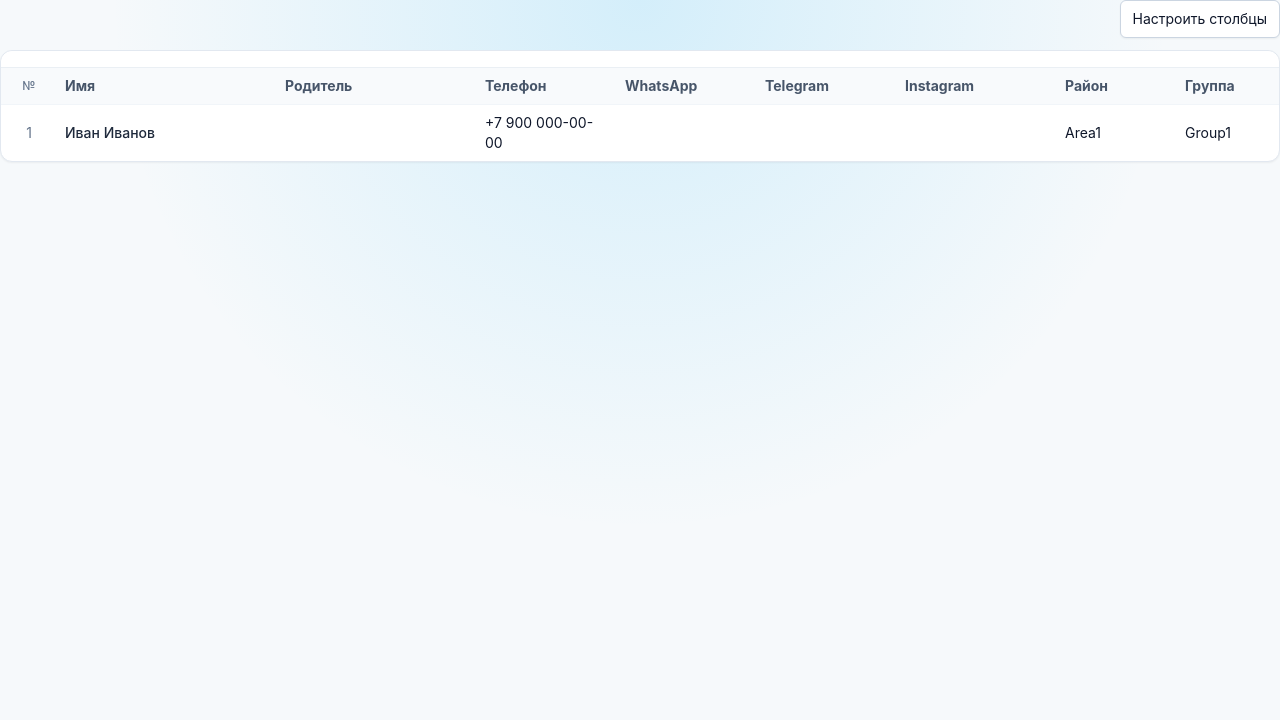
Test: ClientTable active placement matching › opens the modal with canonical client data when resolver is provided
This screenshot has width=1280, height=720.
Click the text "Иван Иванов". click: click(110, 132)
box: left=65, top=124, right=155, bottom=141
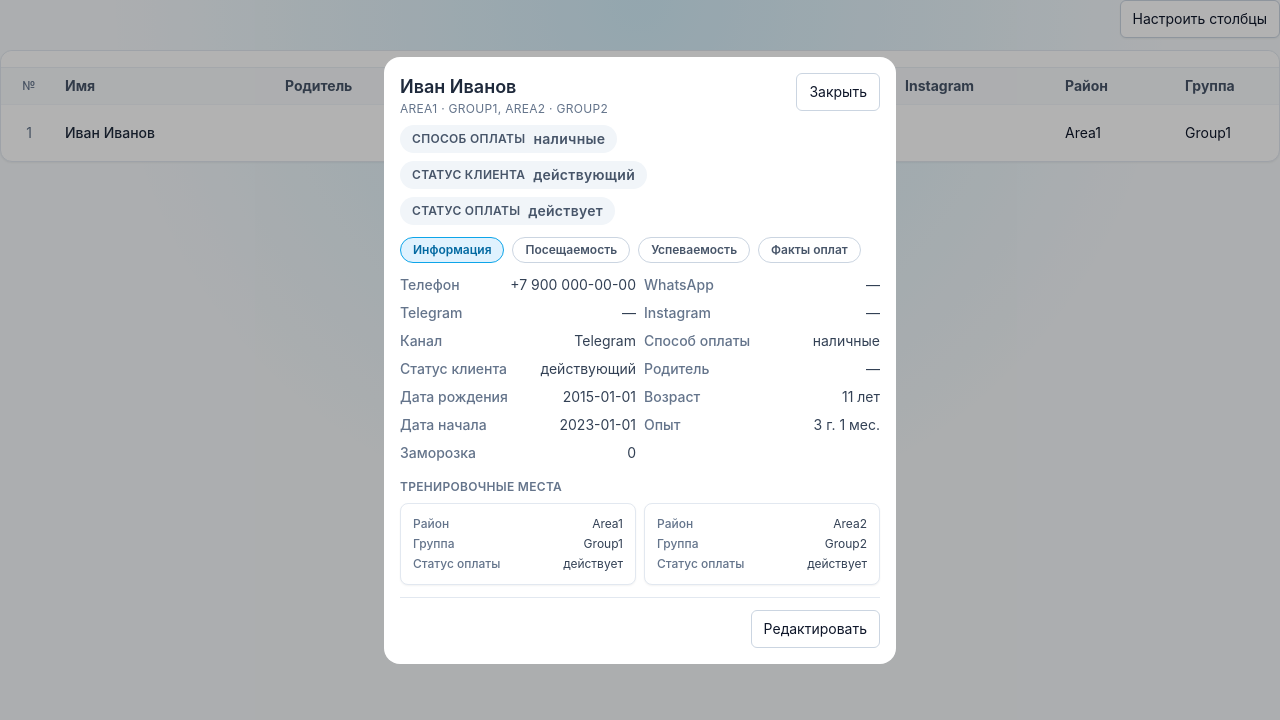
Check: the text "Area1 · Group1, Area2 · Group2" is shown, box left=400, top=100, right=608, bottom=116
